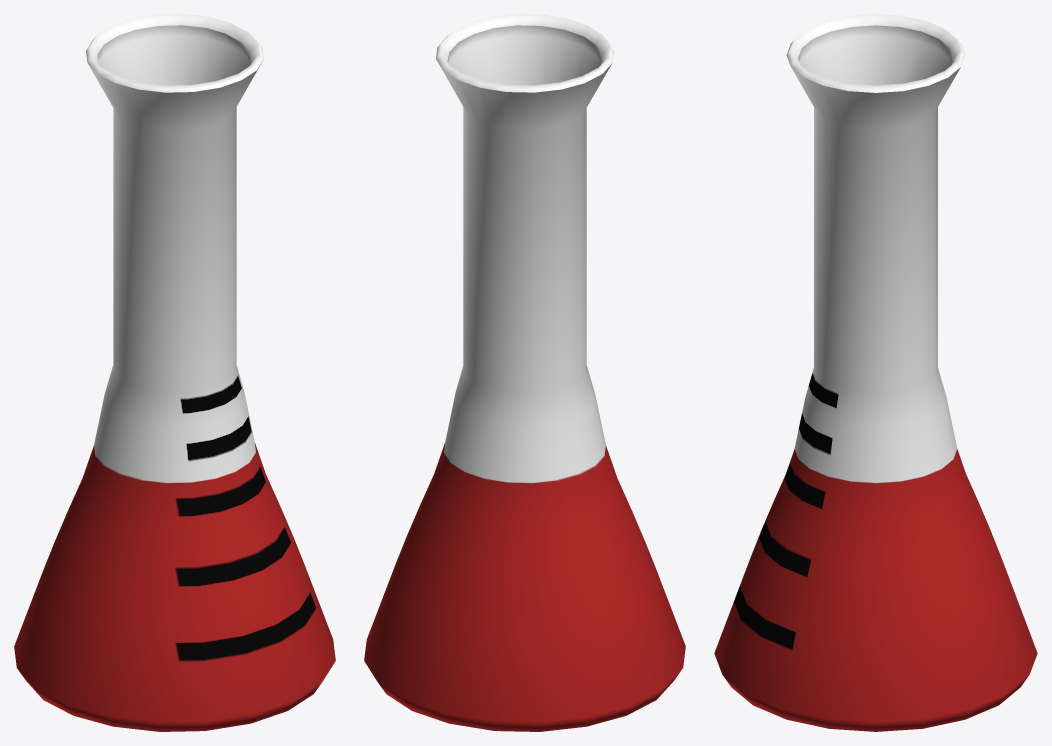
The model's file is healthPickup.fbx.
3 views of the same model, side by side, from view 1: azimuth 30°, elevation 25°; view 2: azimuth 150°, elevation 25°; view 3: azimuth 270°, elevation 25° (orthographic).
Visible parts, largest first — view 1: pasted__pasted__polySurface2; view 2: pasted__pasted__polySurface2; view 3: pasted__pasted__polySurface2.
Part boxes in pixels (x1,y1,x2,y2): pasted__pasted__polySurface2: (14,14,335,731); pasted__pasted__polySurface2: (364,14,685,731); pasted__pasted__polySurface2: (714,14,1037,731).
Size of the model in its own units: 0.6026 by 1.3 by 0.6026.
